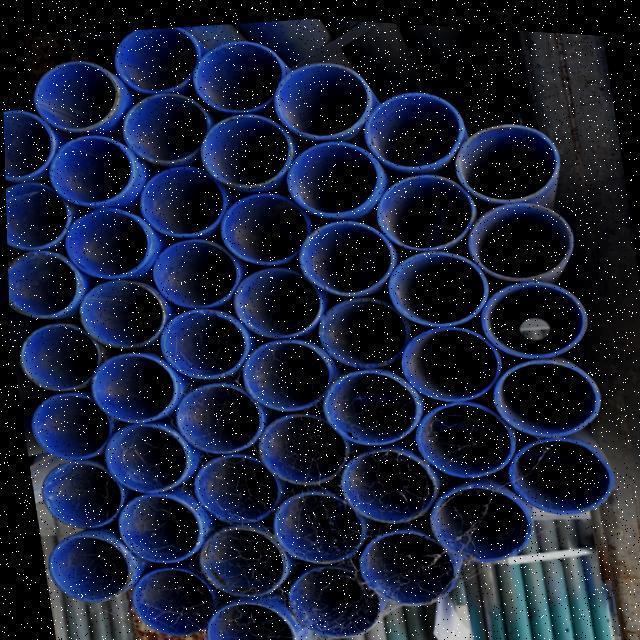pipe: (449, 117, 555, 200), (425, 477, 525, 564), (463, 195, 571, 274), (490, 350, 595, 429), (505, 427, 606, 508), (372, 167, 475, 244), (362, 86, 465, 163), (481, 275, 585, 350), (333, 443, 433, 521), (276, 58, 373, 138), (192, 33, 287, 114), (283, 554, 376, 636), (295, 216, 392, 294), (194, 107, 291, 185), (351, 525, 449, 602), (394, 321, 495, 395), (382, 246, 483, 320), (318, 367, 417, 441), (286, 137, 378, 216), (411, 396, 506, 471), (120, 88, 210, 164), (272, 485, 365, 557), (59, 206, 150, 279), (229, 262, 319, 335), (255, 407, 347, 478), (316, 290, 406, 362), (219, 188, 309, 260), (197, 520, 285, 593), (138, 162, 224, 236), (243, 334, 330, 407), (170, 382, 259, 453), (150, 235, 239, 306), (160, 306, 246, 378), (75, 277, 161, 349), (48, 131, 131, 205), (86, 347, 174, 416), (114, 24, 201, 93), (102, 421, 187, 491), (187, 454, 275, 521), (125, 564, 211, 632), (114, 492, 198, 560), (32, 59, 113, 129), (38, 459, 120, 528), (42, 535, 125, 601), (28, 394, 109, 460), (15, 323, 94, 390), (6, 251, 74, 320), (4, 178, 64, 250), (201, 599, 293, 640), (3, 111, 51, 183)
